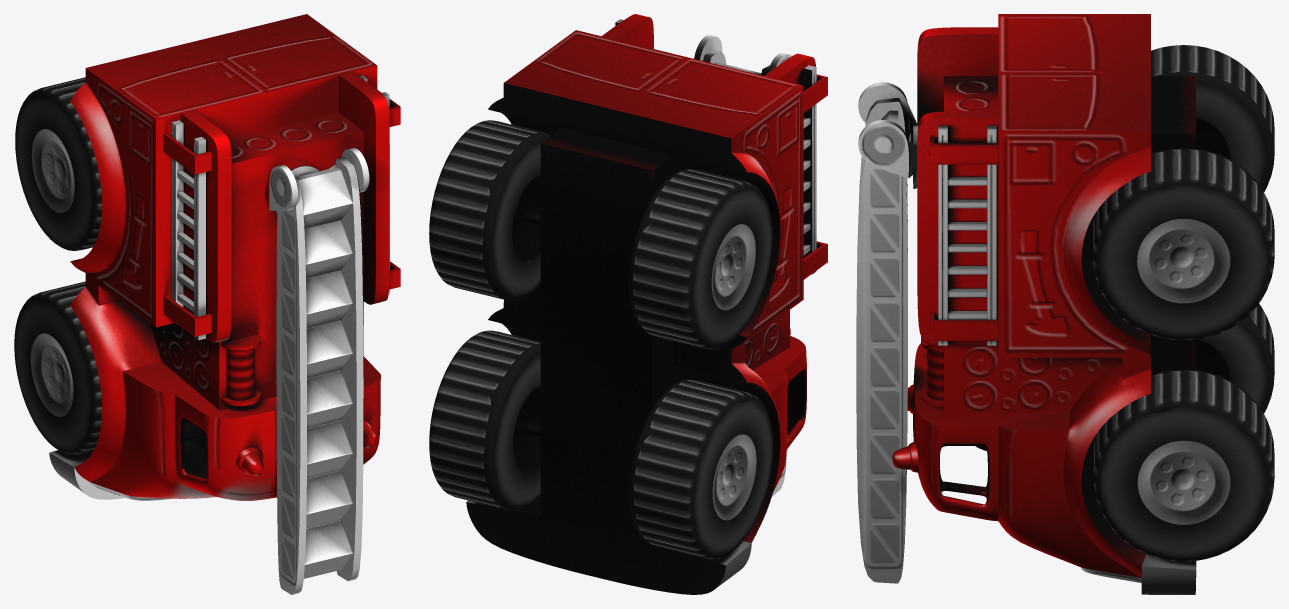
Rendered from 10608_Tonka_Fire_Truck_SG_v1_L3.obj.
3 views of the same model, side by side, from view 1: azimuth 30°, elevation 25°; view 2: azimuth 150°, elevation 25°; view 3: azimuth 270°, elevation 25° (orthographic). The views are drawn at different scales.
Visible parts, largest first — view 1: 10608_tonka_fire; view 2: 10608_tonka_fire; view 3: 10608_tonka_fire.
Boxes of the visible parts, box(x1,y1,x2,y2) form: 10608_tonka_fire: box(14, 14, 400, 594); 10608_tonka_fire: box(429, 14, 827, 594); 10608_tonka_fire: box(856, 14, 1274, 594).
Bounding box in the file's own units: 14.94 × 25.06 × 19.23.
1 material, 1 textured.
